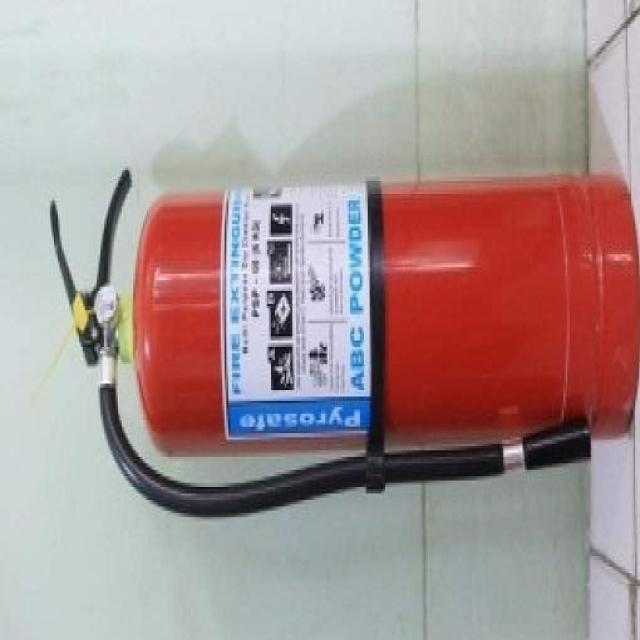fire_extinguisher: (44, 159, 639, 526)
